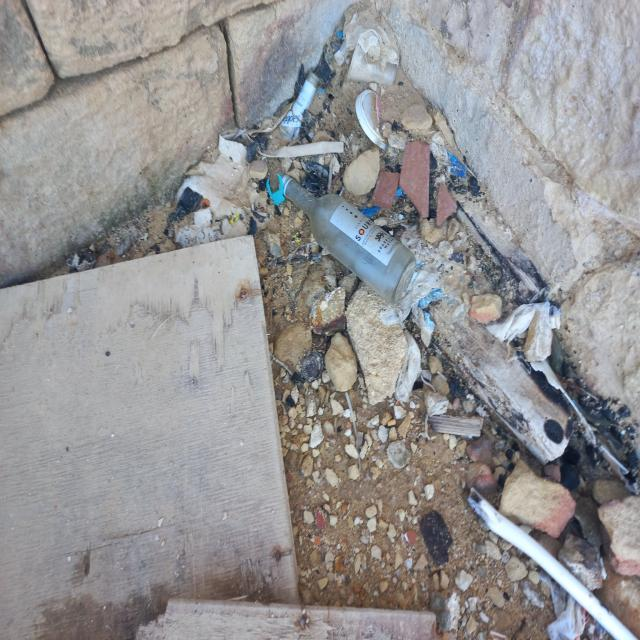Bottle: (278, 175, 415, 309), (278, 71, 317, 138)
Other litter: (0, 237, 439, 640)
Other plastic: (282, 5, 562, 409), (468, 487, 638, 640), (524, 359, 638, 488), (171, 127, 286, 245), (538, 568, 589, 640)
